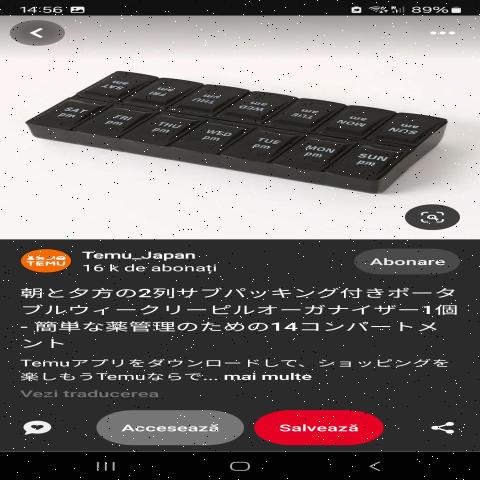Pill-box: (17, 44, 450, 199)
